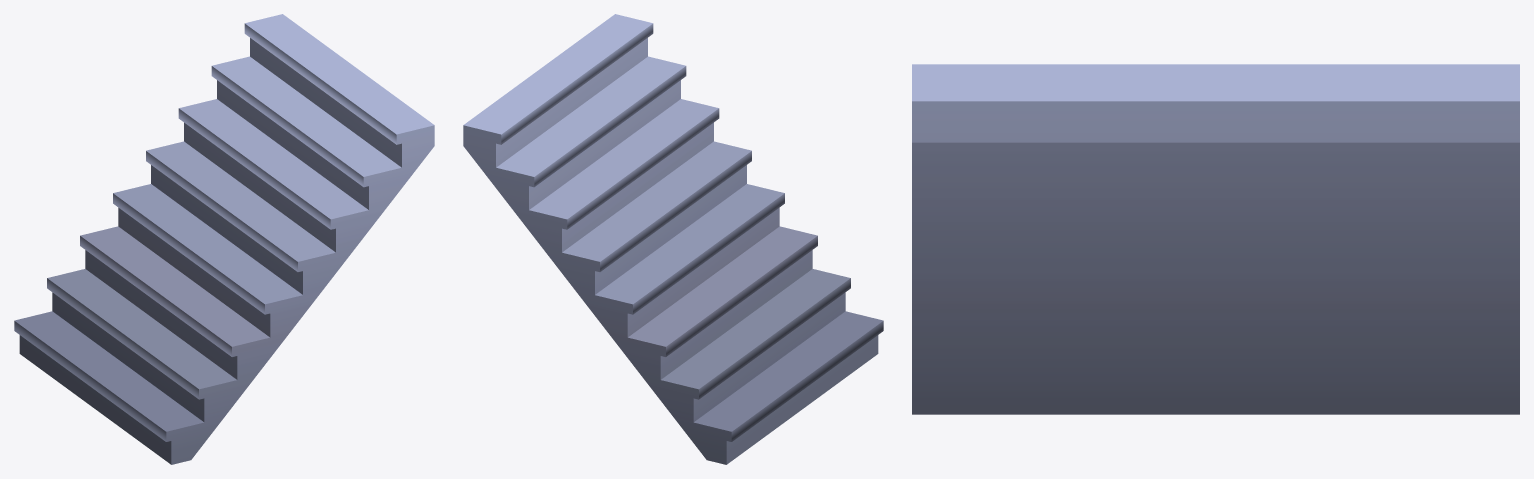
The model's file is stairs-wide-stone.glb.
The picture shows the model from 3 angles, left to right: view 1: azimuth 30°, elevation 25°; view 2: azimuth 150°, elevation 25°; view 3: azimuth 270°, elevation 25°; orthographic projection. The views are drawn at different scales.
Visible parts, largest first — view 1: stairs-wide-stone; view 2: stairs-wide-stone; view 3: stairs-wide-stone.
Boxes of the visible parts, x1,y1,x2,y2 form: stairs-wide-stone: [14, 14, 434, 464]; stairs-wide-stone: [463, 14, 883, 464]; stairs-wide-stone: [912, 64, 1519, 414].
Bounding box in the file's own units: 1.02 × 1 × 1.
Materials: 1 (1 with a texture image).
